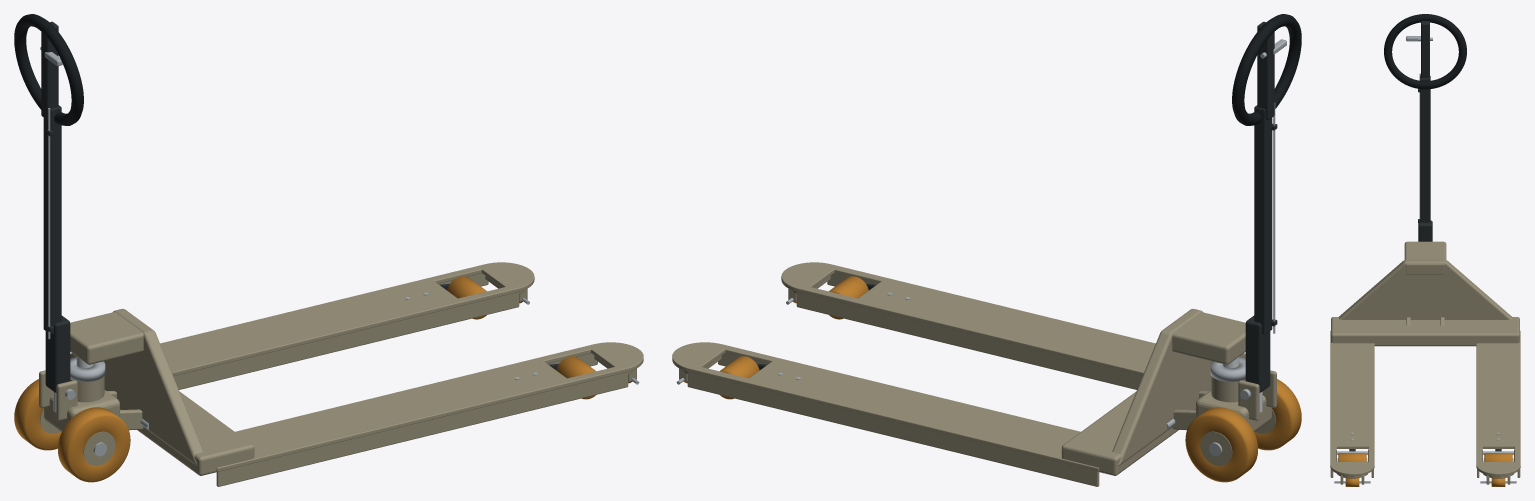
The picture shows the model from 3 angles, left to right: view 1: azimuth 30°, elevation 25°; view 2: azimuth 150°, elevation 25°; view 3: azimuth 270°, elevation 25°; orthographic projection. The views are drawn at different scales.
Visible parts, largest first — view 1: Fork top plate -1, Fork top plate 1, Fork channel sidewall (-1, -1), Raised triangular fork frame, Fork channel sidewall (1, -1), Tall tiller stem, Large steer wheel -1, Rear fork cross bridge, Ram upper saddle, Open oval tiller hand grip, Large steer wheel 1, Lower reinforced tiller (+4 smaller); view 2: Fork top plate 1, Fork top plate -1, Fork channel sidewall (1, 1), Raised triangular fork frame, Fork channel sidewall (-1, 1), Tall tiller stem, Large steer wheel 1, Rear fork cross bridge, Ram upper saddle, Open oval tiller hand grip, Large steer wheel -1, Lower reinforced tiller (+3 smaller); view 3: Raised triangular fork frame, Fork top plate -1, Fork top plate 1, Rear fork cross bridge, Open oval tiller hand grip, Tall tiller stem, Ram upper saddle, Grip central stem, Lower reinforced tiller, Release linkage rod, Load wheel -1, Load wheel 1.
Boxes of the visible parts, box(x1,y1,x2,y2) form: Fork top plate -1: box(216, 342, 643, 471); Fork top plate 1: box(160, 262, 534, 375); Fork channel sidewall (-1, -1): box(216, 372, 628, 486); Raised triangular fork frame: box(70, 309, 203, 466); Fork channel sidewall (1, -1): box(173, 292, 519, 389); Tall tiller stem: box(43, 105, 61, 334); Large steer wheel -1: box(58, 407, 130, 482); Rear fork cross bridge: box(70, 353, 254, 475); Ram upper saddle: box(70, 312, 143, 364); Open oval tiller hand grip: box(14, 14, 83, 125); Large steer wheel 1: box(14, 379, 61, 450); Lower reinforced tiller: box(45, 315, 70, 392); Fork top plate 1: box(672, 342, 1099, 471); Fork top plate -1: box(781, 262, 1155, 375); Fork channel sidewall (1, 1): box(687, 372, 1099, 486); Raised triangular fork frame: box(1112, 309, 1245, 466); Fork channel sidewall (-1, 1): box(796, 292, 1142, 389); Tall tiller stem: box(1254, 105, 1272, 334); Large steer wheel 1: box(1185, 407, 1257, 482); Rear fork cross bridge: box(1061, 353, 1245, 475); Ram upper saddle: box(1172, 312, 1245, 364); Open oval tiller hand grip: box(1232, 14, 1301, 125); Large steer wheel -1: box(1254, 379, 1301, 450); Lower reinforced tiller: box(1245, 315, 1270, 392); Raised triangular fork frame: box(1339, 259, 1511, 319); Fork top plate -1: box(1330, 331, 1374, 476); Fork top plate 1: box(1476, 331, 1520, 476); Rear fork cross bridge: box(1331, 317, 1519, 346); Open oval tiller hand grip: box(1384, 14, 1466, 89); Tall tiller stem: box(1420, 76, 1430, 222); Ram upper saddle: box(1404, 241, 1446, 274); Grip central stem: box(1421, 21, 1429, 78); Lower reinforced tiller: box(1418, 220, 1432, 241); Release linkage rod: box(1419, 73, 1420, 219); Load wheel -1: box(1338, 453, 1366, 461); Load wheel 1: box(1484, 453, 1512, 461).
Bounding box in the file's own units: 1.52 × 1.2 × 0.6858.
